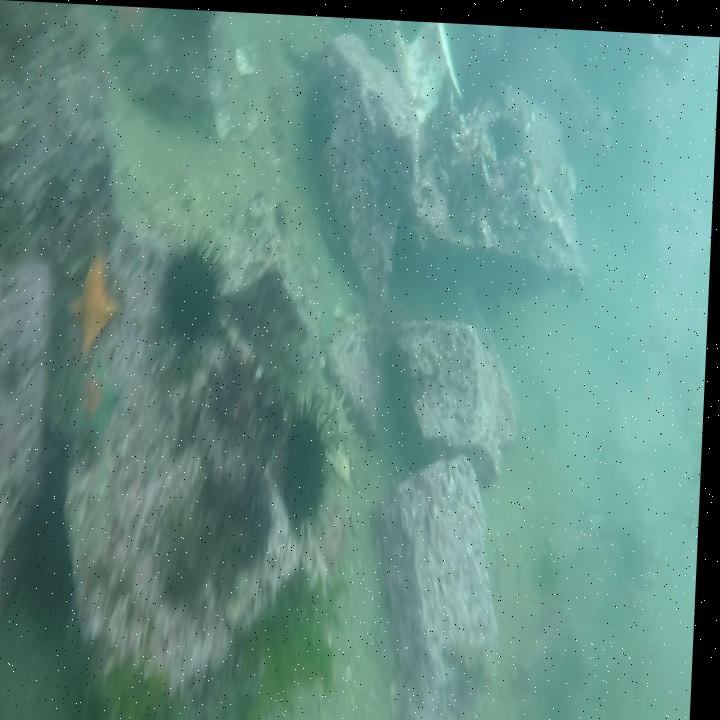echinus: (154, 219, 236, 362), (283, 381, 347, 543), (486, 99, 528, 159)
holothurian: (314, 374, 363, 459), (265, 72, 291, 160)
starfish: (67, 250, 127, 369), (66, 347, 129, 459), (101, 4, 158, 63)
